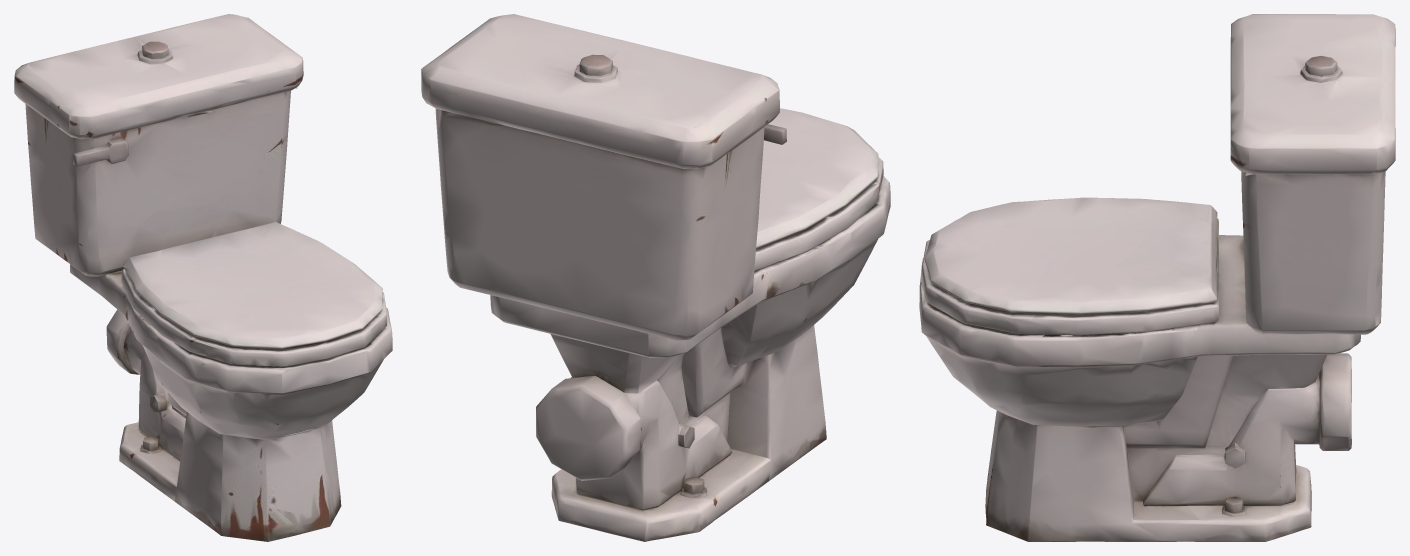
The model's file is toilet_fayansovyy_so_smyvom.glb.
3 renders of one model, left to right at view 1: azimuth 30°, elevation 25°; view 2: azimuth 150°, elevation 25°; view 3: azimuth 270°, elevation 25°, orthographic. The views are drawn at different scales.
Parts seen in each view (by area): view 1: body, lid, tank_lid; view 2: body, tank_lid, lid; view 3: body, lid, tank_lid.
Part boxes in pixels (left/top/right/bottom): body: left=14, top=66, right=392, bottom=541; lid: left=122, top=222, right=386, bottom=358; tank_lid: left=14, top=14, right=303, bottom=124; body: left=421, top=79, right=890, bottom=541; tank_lid: left=421, top=14, right=779, bottom=151; lid: left=755, top=108, right=883, bottom=263; body: left=919, top=34, right=1395, bottom=541; lid: left=922, top=197, right=1213, bottom=326; tank_lid: left=1230, top=14, right=1395, bottom=157.
Size of the model in its own units: 0.481 by 0.7499 by 0.724.
5 materials, 3 textured.
